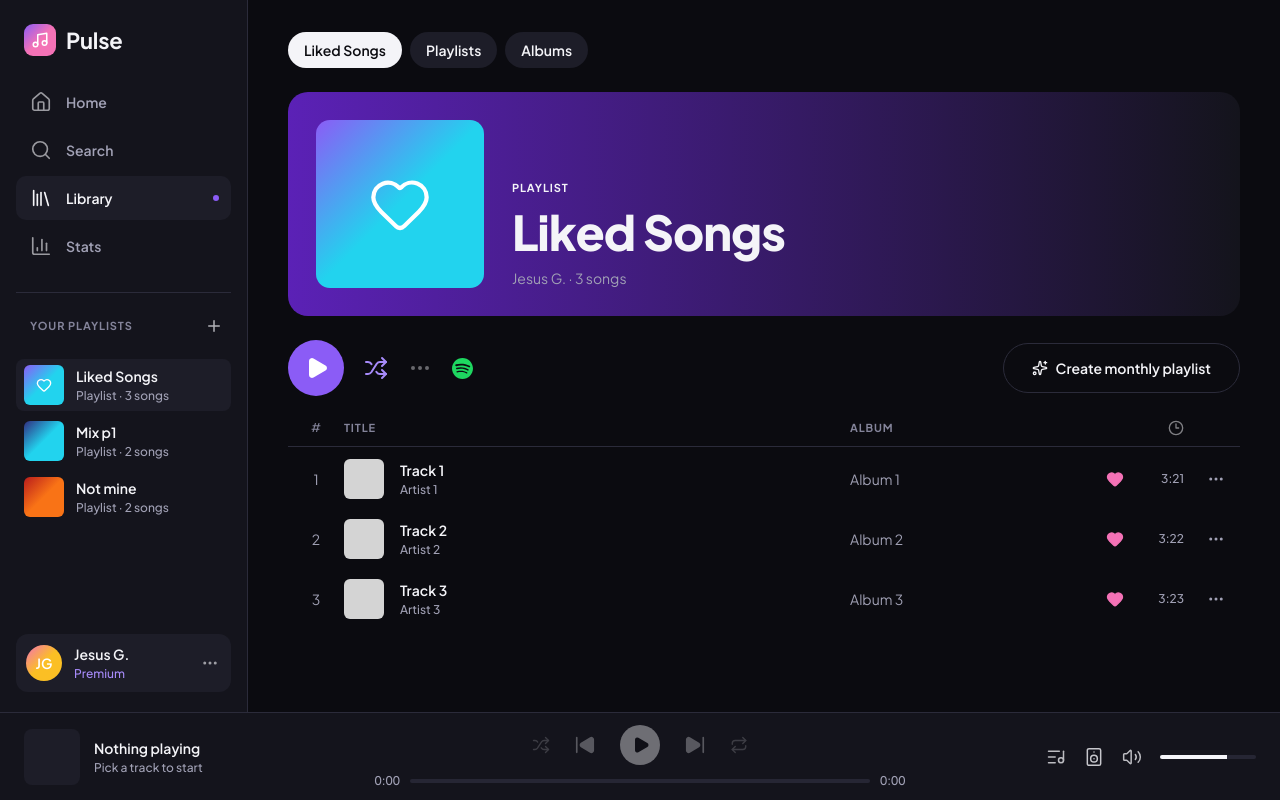
Scenario: Playlists › adds a track to an editable playlist from the track menu
The image size is (1280, 800).
Click the button named "More options for Track 1" at (1216,479), box [1200, 463, 1232, 495]
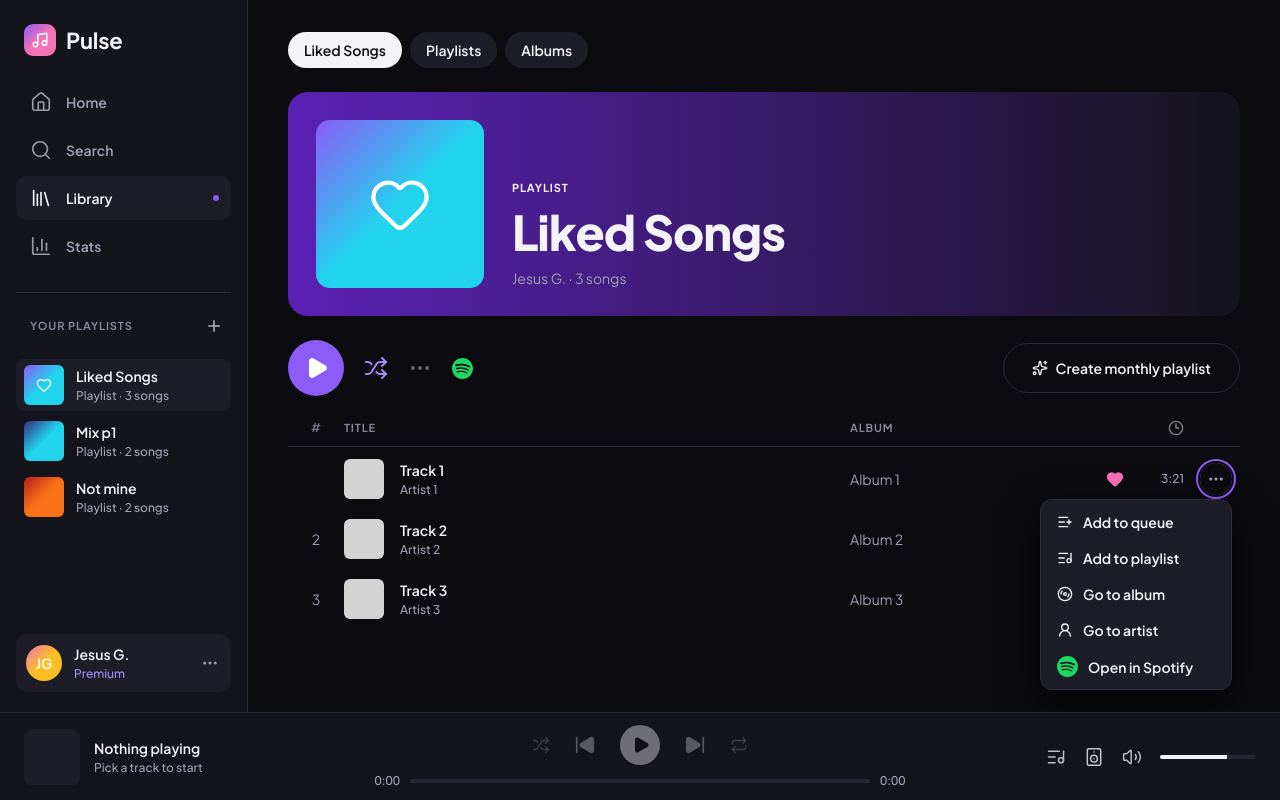
Click the menu item "Add to playlist" at (1136,558), box [1045, 540, 1227, 576]
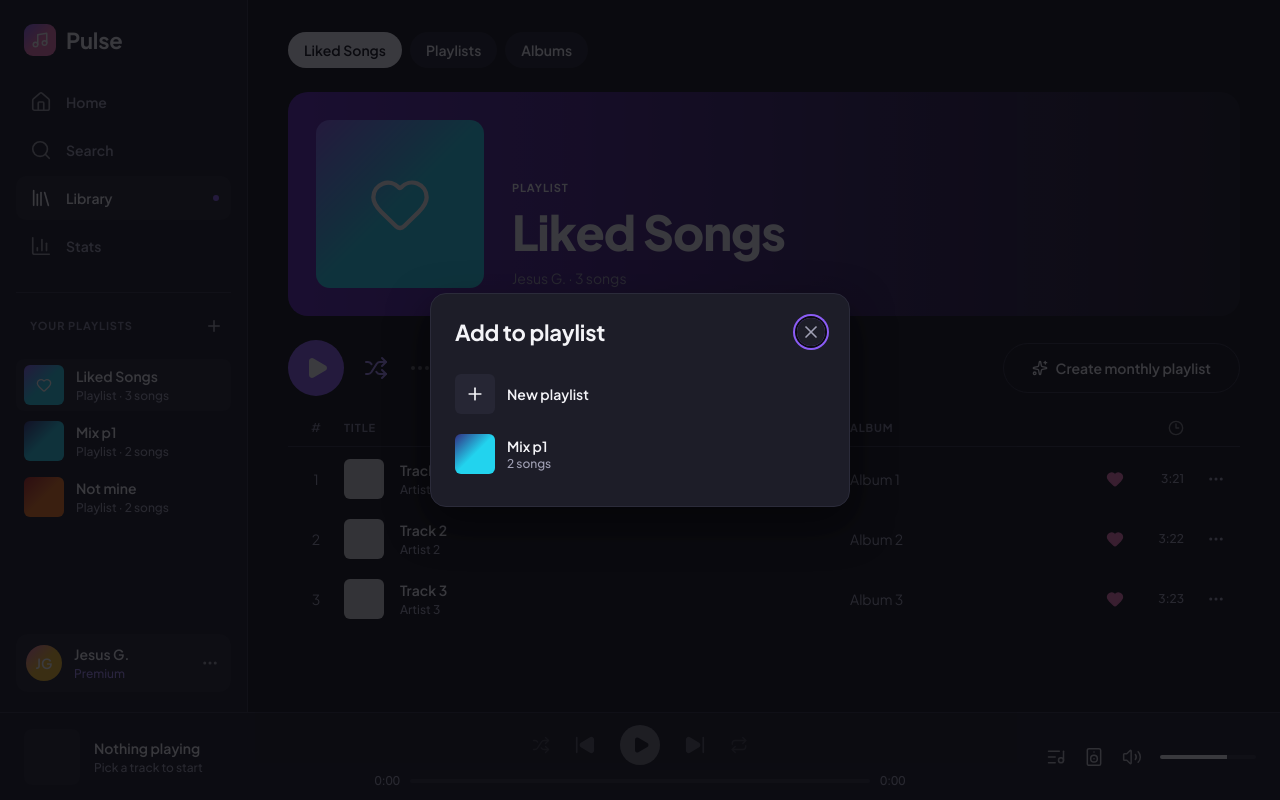
Click the button "Mix p1 2 songs" at (475,454), box [447, 426, 833, 482]
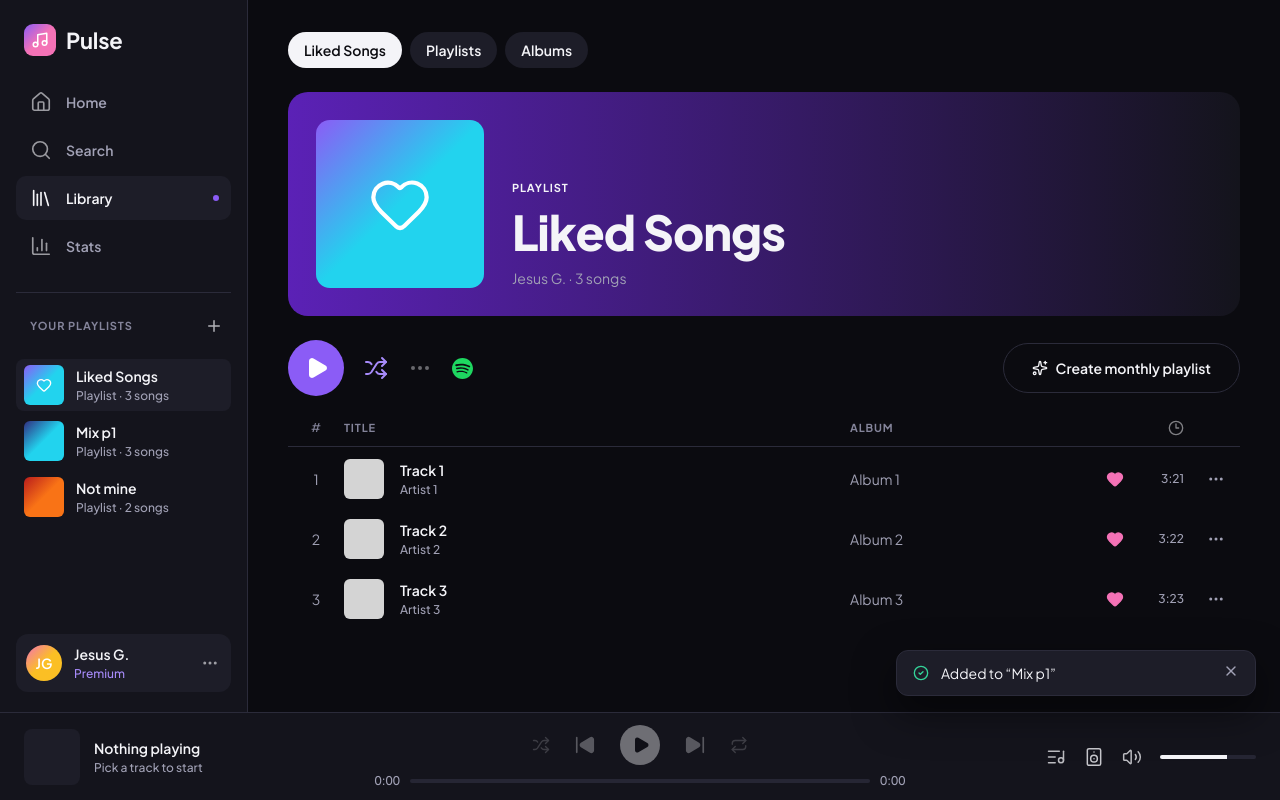
Result: the text "Added to “Mix p1”" is shown at [941, 664, 1056, 682]
Result: the dialog is gone
